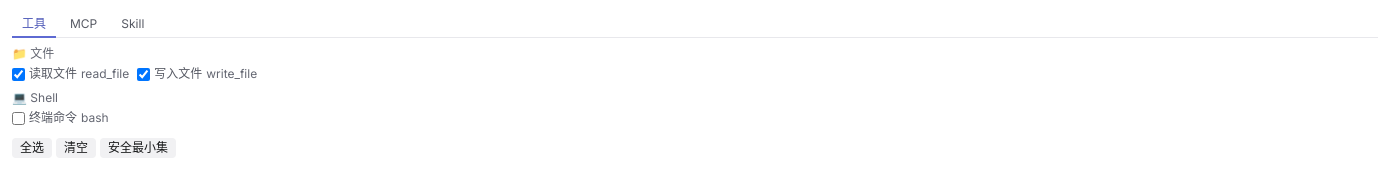
Test: CapabilityTabs — MCP Tab 动态列表 › ipc.resource.list type=mcp 返回的 MCP 渲染为可勾选项
Click the button "MCP" at point(84, 25), box [60,12,107,38]
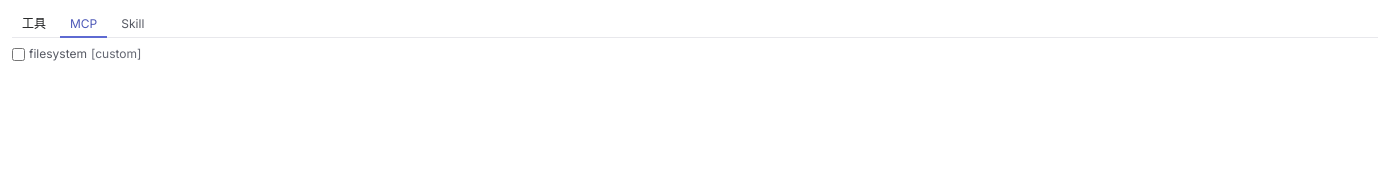
Expected: the checkbox labelled "filesystem" is shown, [12,48,25,60]
